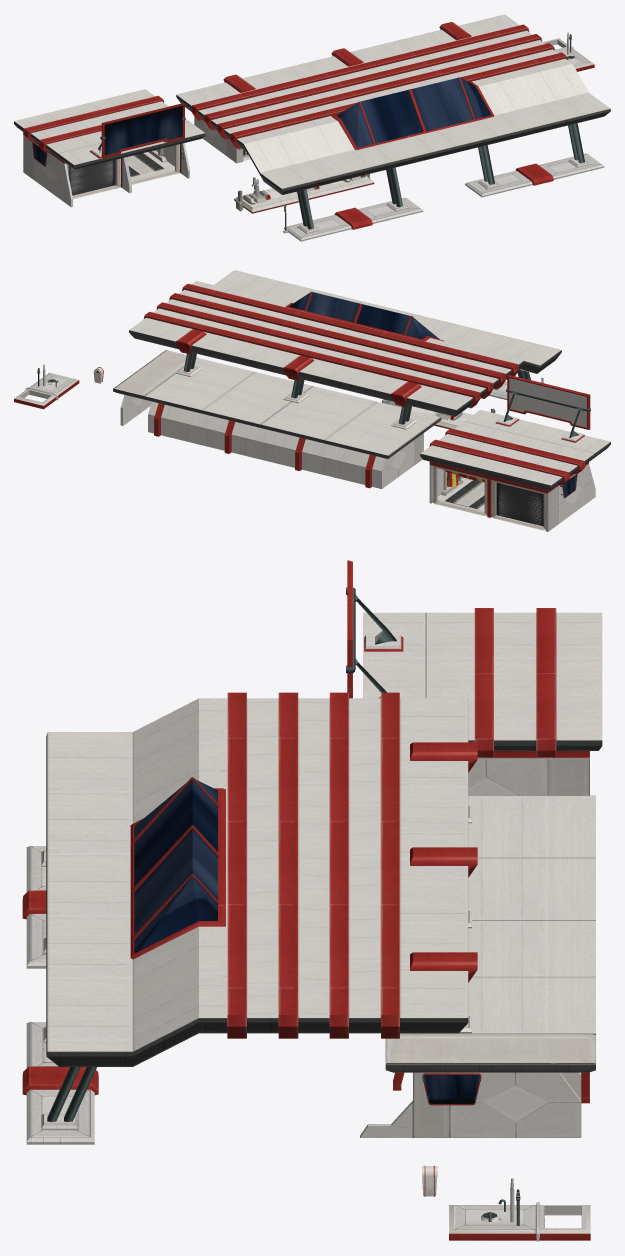
File: CarWash.fbx
3 renders of one model, top to bottom at view 1: azimuth 30°, elevation 25°; view 2: azimuth 150°, elevation 25°; view 3: azimuth 270°, elevation 25°, orthographic. The views are drawn at different scales.
Visible parts, largest first — view 1: Roof, Car_Wash, Billboard, Pump, Main_Building, Refilling_Station; view 2: Roof, Main_Building, Car_Wash, Billboard, Refilling_Station, Pump; view 3: Roof, Main_Building, Car_Wash, Refilling_Station, Billboard.
Part boxes in pixels (x1=…): Roof: x1=176, y1=14, x2=610, y2=241; Car_Wash: x1=14, y1=89, x2=205, y2=207; Billboard: x1=89, y1=103, x2=185, y2=158; Pump: x1=234, y1=174, x2=374, y2=213; Main_Building: x1=194, y1=117, x2=250, y2=163; Refilling_Station: x1=543, y1=32, x2=594, y2=71; Roof: x1=129, y1=270, x2=561, y2=429; Main_Building: x1=113, y1=350, x2=441, y2=488; Car_Wash: x1=420, y1=410, x2=610, y2=531; Billboard: x1=495, y1=374, x2=590, y2=442; Refilling_Station: x1=14, y1=364, x2=79, y2=409; Pump: x1=382, y1=399, x2=495, y2=429; Roof: x1=22, y1=692, x2=477, y2=1144; Main_Building: x1=360, y1=795, x2=595, y2=1137; Car_Wash: x1=363, y1=608, x2=602, y2=795; Refilling_Station: x1=449, y1=1178, x2=590, y2=1241; Billboard: x1=346, y1=560, x2=403, y2=698.
Size of the model in its own units: 6290 by 1000 by 2903.
